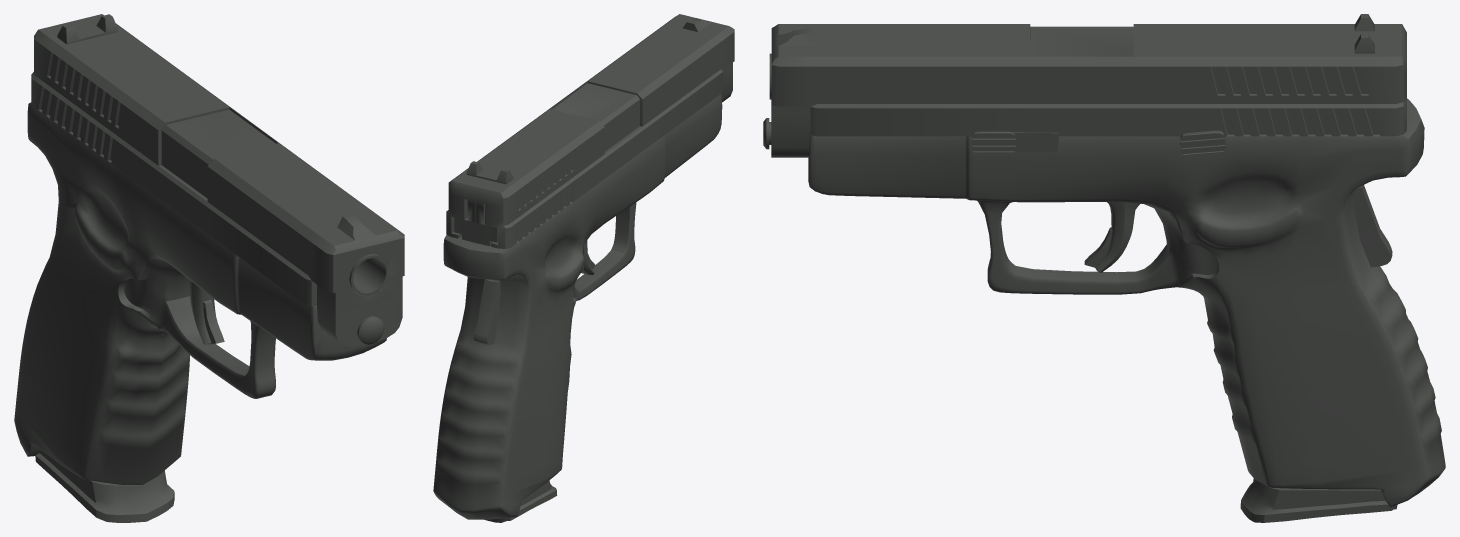
The model's file is handgun.fbx.
3 views of the same model, side by side, from view 1: azimuth 30°, elevation 25°; view 2: azimuth 150°, elevation 25°; view 3: azimuth 270°, elevation 25° (orthographic). The views are drawn at different scales.
Parts seen in each view (by area): view 1: grip, slide, barrel (×2), Senzer, trigger, Cylinder002; view 2: grip, slide, barrel, Senzer; view 3: grip, slide, Senzer, barrel, Box002, trigger, Box001.
Boxes of the visible parts, bbox=[...] form: grip: bbox=[14, 102, 386, 484]; slide: bbox=[31, 14, 404, 346]; barrel (×2): bbox=[161, 109, 388, 295]; Senzer: bbox=[35, 333, 174, 522]; trigger: bbox=[189, 279, 224, 344]; Cylinder002: bbox=[357, 316, 384, 344]; grip: bbox=[433, 94, 722, 519]; slide: bbox=[446, 14, 734, 248]; barrel: bbox=[552, 83, 639, 151]; Senzer: bbox=[484, 480, 557, 522]; grip: bbox=[808, 98, 1445, 506]; slide: bbox=[771, 14, 1406, 157]; Senzer: bbox=[1203, 297, 1397, 522]; barrel: bbox=[1030, 26, 1133, 56]; Box002: bbox=[971, 131, 1058, 153]; trigger: bbox=[1084, 202, 1140, 272]; Box001: bbox=[1180, 130, 1225, 155].
Bounding box in the file's own units: 1.33 × 5.67 × 7.25.
